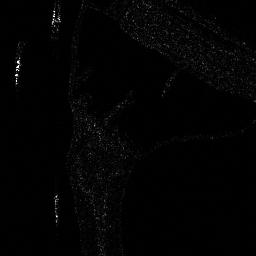ship: (13, 56, 21, 84)
